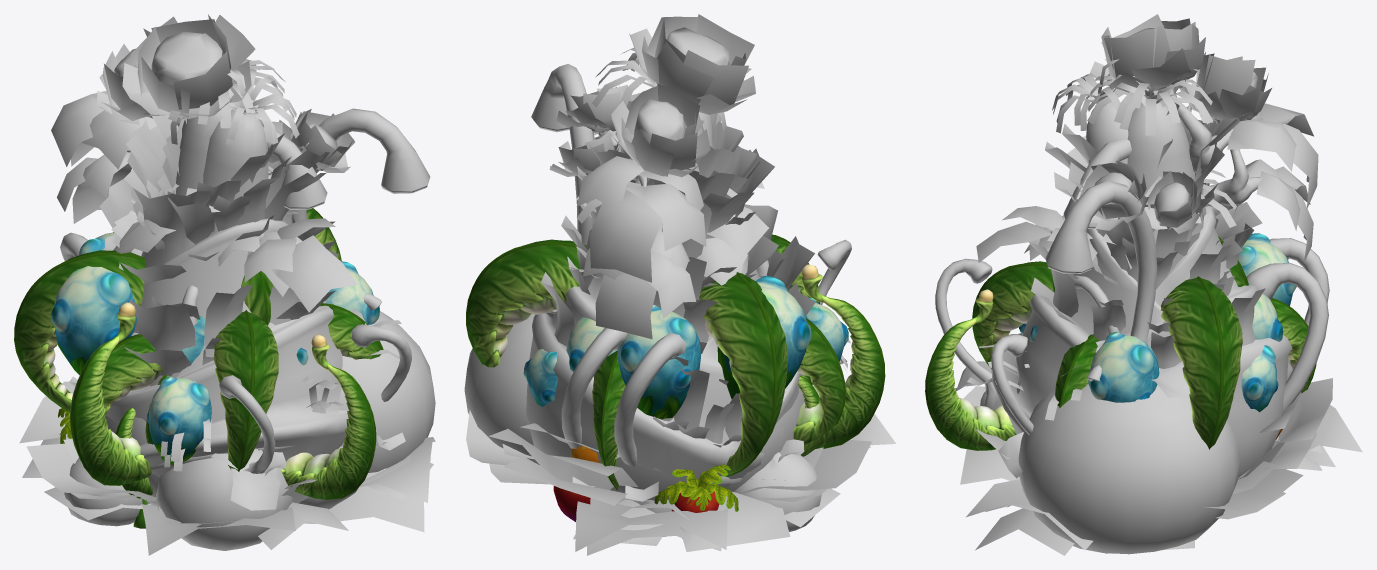
Rendered from Plants2.FBX.
The picture shows the model from 3 angles, left to right: view 1: azimuth 30°, elevation 25°; view 2: azimuth 150°, elevation 25°; view 3: azimuth 270°, elevation 25°; orthographic projection. The views are drawn at different scales.
Parts seen in each view (by area): view 1: GlobularPlant_10, GlobularPlant_1_BigSphere, GlobularPlant_3_Big001, GlobularPlant_9_Big008, GlobularPlant_9_Big004, GlobularPlant_018, GlobularPlant_8_Sheet015, GlobularPlant_1_BigSphere001, GlobularPlant_017, GlobularPlant_3_Mid006, GlobularPlant_3_Big, GlobularPlant_9_Big (+1 smaller); view 2: GlobularPlant_10, GlobularPlant_1_BigSphere, GlobularPlant_9_Big008, GlobularPlant_3_Big001, GlobularPlant_1_BigSphere001, GlobularPlant_8_Sheet015, GlobularPlant_017, GlobularPlant_9_Big004, GlobularPlant_018, GlobularPlant_011, GlobularPlant_3_Mid006, GlobularPlant_8_Sheet006; view 3: GlobularPlant_3_Big001, GlobularPlant_10, GlobularPlant_1_BigSphere, GlobularPlant_9_Big008, GlobularPlant_1_BigSphere001, GlobularPlant_8_Sheet015, GlobularPlant_018, GlobularPlant_3_Mid006, GlobularPlant_9_Big004, GlobularPlant_017, GlobularPlant_3_Big, GlobularPlant_8_Sheet006.
Boxes of the visible parts, x1,y1,x2,y2 form: GlobularPlant_10: (19, 59, 435, 555); GlobularPlant_1_BigSphere: (22, 14, 433, 549); GlobularPlant_3_Big001: (60, 108, 435, 550); GlobularPlant_9_Big008: (14, 208, 383, 528); GlobularPlant_9_Big004: (70, 302, 376, 499); GlobularPlant_018: (63, 69, 385, 522); GlobularPlant_8_Sheet015: (51, 232, 379, 464); GlobularPlant_1_BigSphere001: (22, 28, 327, 549); GlobularPlant_017: (69, 165, 410, 527); GlobularPlant_3_Mid006: (113, 232, 411, 509); GlobularPlant_3_Big: (182, 126, 327, 325); GlobularPlant_9_Big: (241, 271, 272, 325); GlobularPlant_10: (466, 48, 895, 551); GlobularPlant_1_BigSphere: (556, 14, 840, 551); GlobularPlant_9_Big008: (466, 234, 845, 490); GlobularPlant_3_Big001: (464, 64, 851, 536); GlobularPlant_1_BigSphere001: (549, 83, 839, 551); GlobularPlant_8_Sheet015: (523, 276, 848, 419); GlobularPlant_017: (489, 188, 870, 555); GlobularPlant_9_Big004: (793, 264, 885, 448); GlobularPlant_018: (502, 58, 823, 521); GlobularPlant_011: (553, 464, 738, 538); GlobularPlant_3_Mid006: (561, 328, 627, 486); GlobularPlant_8_Sheet006: (566, 317, 615, 376); GlobularPlant_3_Big001: (935, 180, 1329, 554); GlobularPlant_10: (963, 69, 1362, 550); GlobularPlant_1_BigSphere: (960, 14, 1321, 555); GlobularPlant_9_Big008: (972, 261, 1316, 449); GlobularPlant_1_BigSphere001: (961, 52, 1321, 555); GlobularPlant_8_Sheet015: (1019, 233, 1296, 412); GlobularPlant_018: (1007, 59, 1323, 507); GlobularPlant_3_Mid006: (991, 263, 1328, 478); GlobularPlant_9_Big004: (925, 289, 1016, 450); GlobularPlant_017: (985, 170, 1335, 519); GlobularPlant_3_Big: (1063, 139, 1131, 228); GlobularPlant_8_Sheet006: (1242, 283, 1283, 341).
Bounding box in the file's own units: 51.49 × 65.41 × 53.56.
